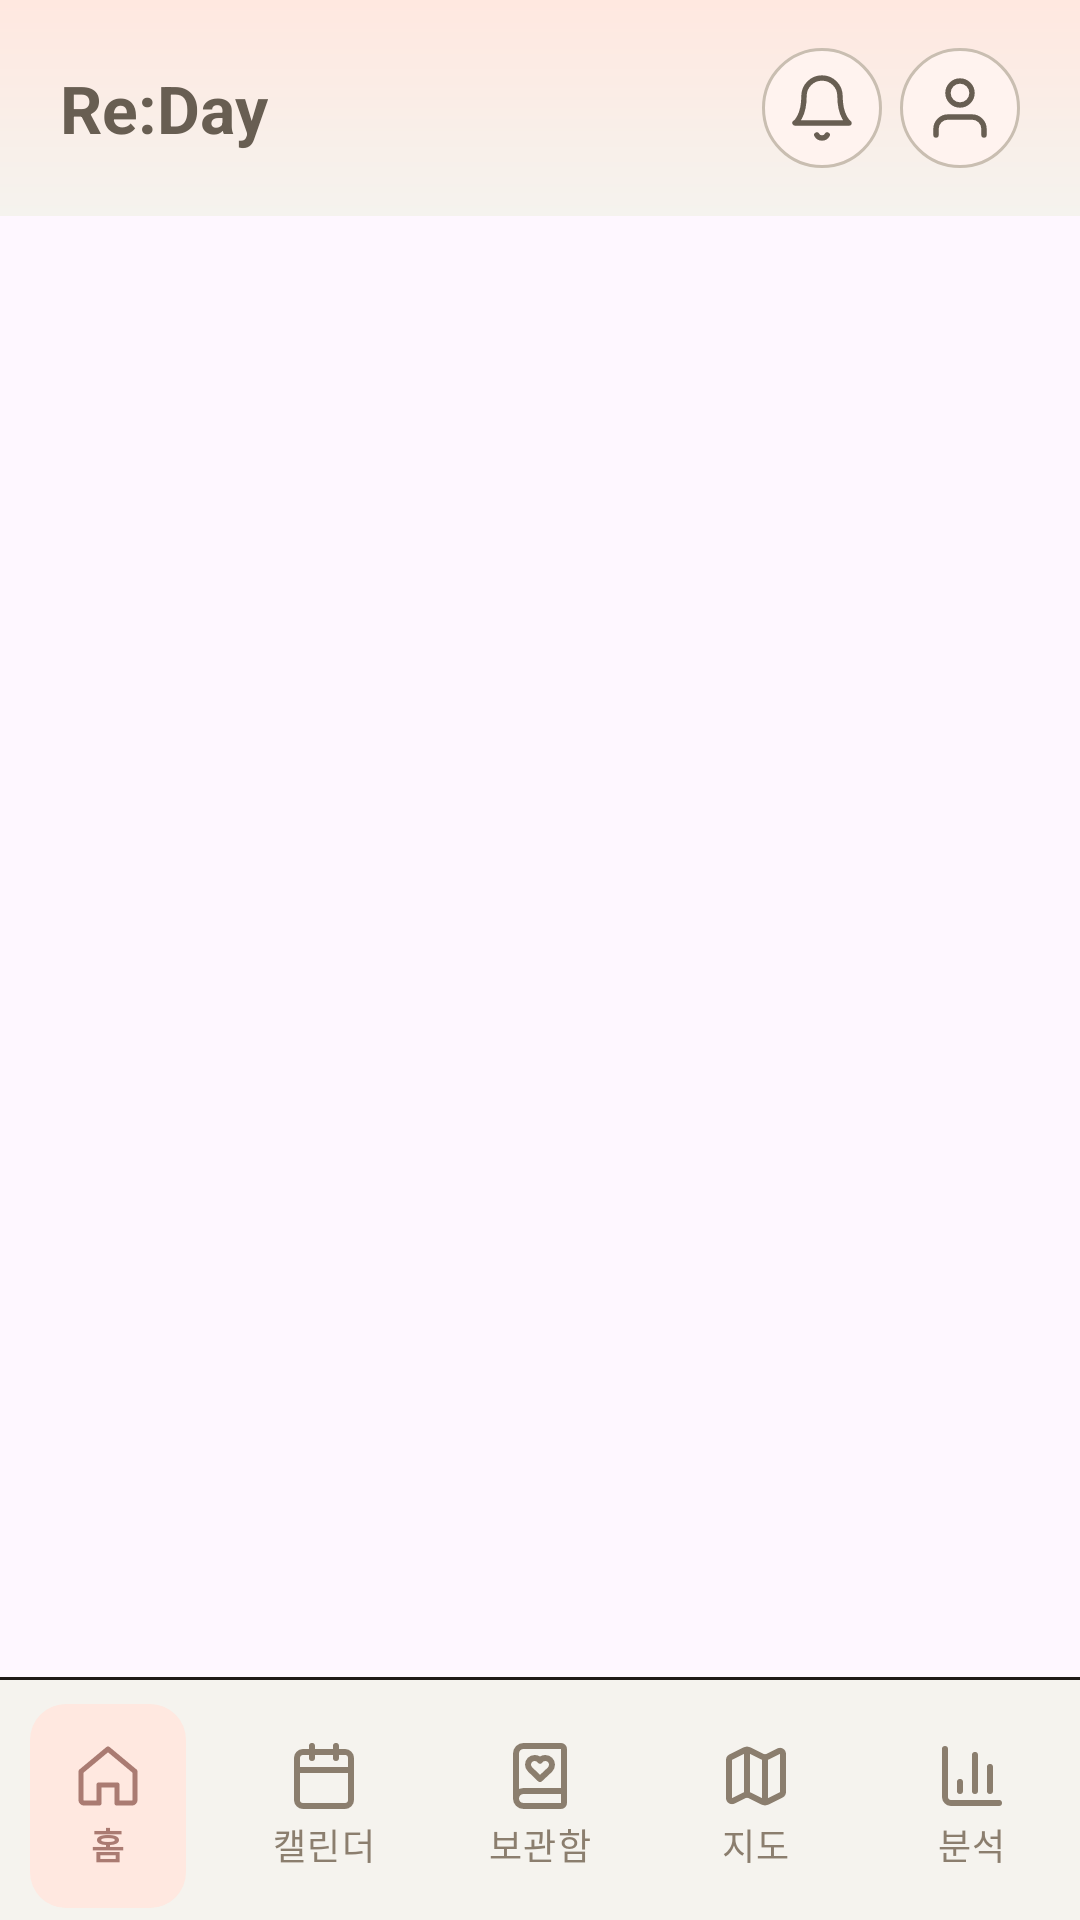

Icons on this 1080 x 1920 Android screen, each with the point to tap as (x,y):
알림: (822,108)
프로필: (960,108)
